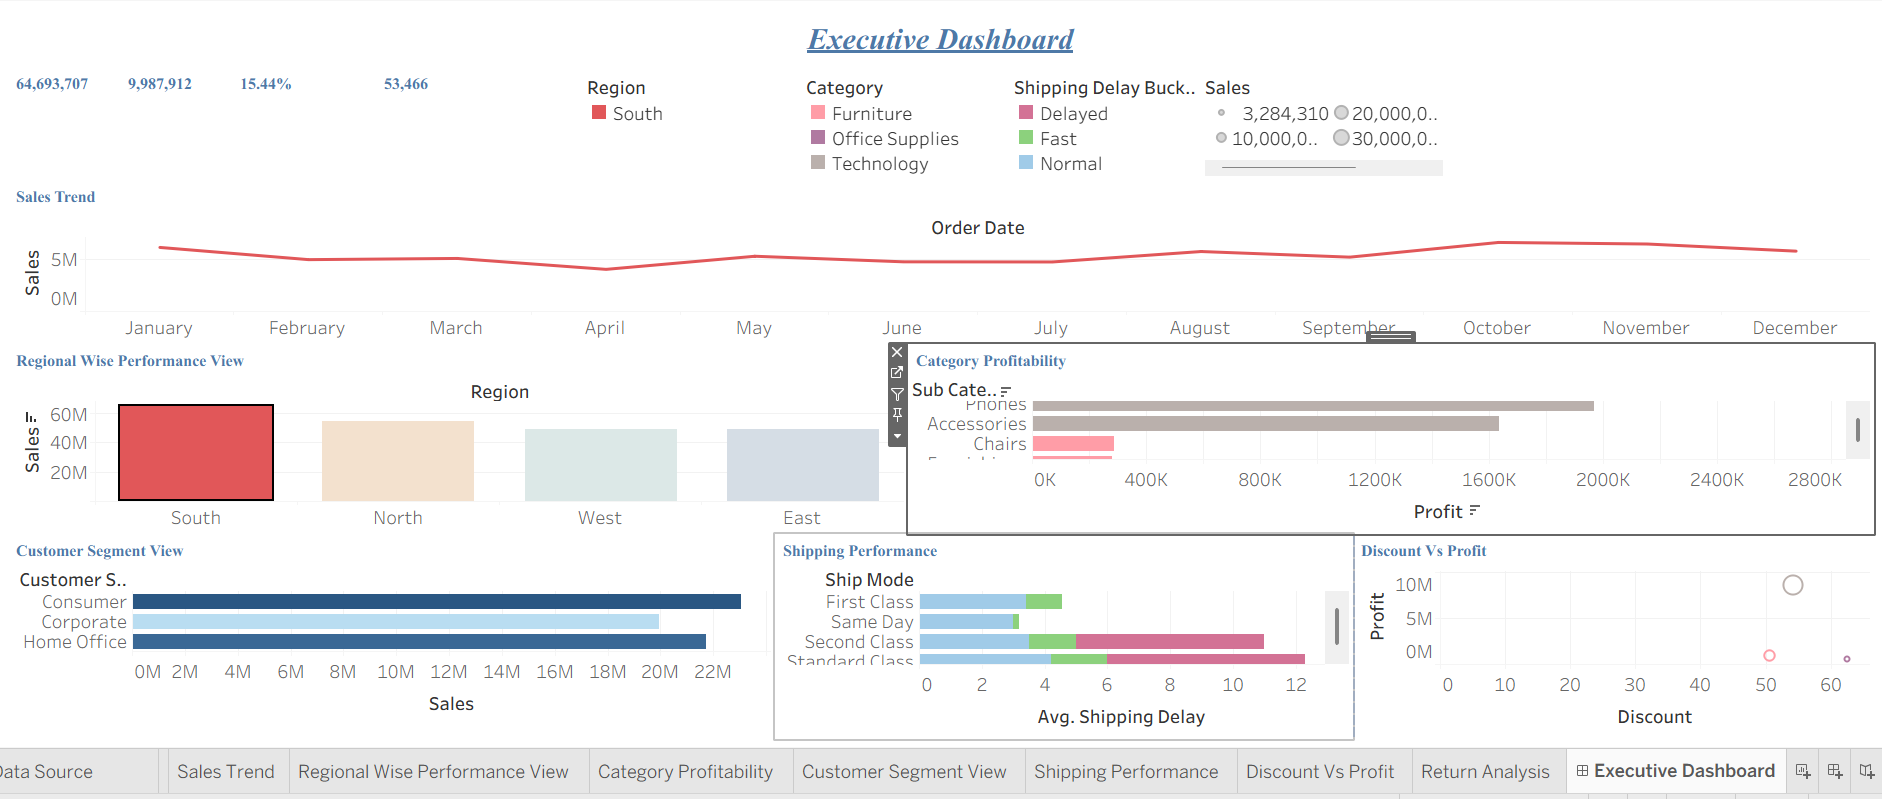

This screenshot's page, from the dashboard's own definition file:
{"tool":"tableau","page":{"name":"Executive Dashboard","canvas":[1000,1000],"units":"permille","ordinal":0},"visuals":[{"type":"title","box":[4.2,10.7,991.5,81.8]},{"type":"worksheet","title":"Total Sales","mark":"Automatic","box":[4.2,92.5,57.4,147.1]},{"type":"worksheet","title":"Total Profit","mark":"Automatic","box":[61.6,92.5,61.6,147.1]},{"type":"worksheet","title":"Profit Margin","mark":"Automatic","box":[123.3,92.5,76.5,147.1]},{"type":"worksheet","title":"Avg Order Value","mark":"Automatic","box":[199.8,92.5,110,147.1]},{"type":"legend","title":"Sales Trend","param":"[federated.016ygvn1skgenk1b298vn037kizk].[none:region:nk]","box":[309.8,92.5,116.4,147.1]},{"type":"legend","title":"Category Profitability","param":"[federated.016ygvn1skgenk1b298vn037kizk].[none:category:nk]","box":[426.1,92.5,110.5,147.1]},{"type":"legend","title":"Shipping Performance","param":"[federated.016ygvn1skgenk1b298vn037kizk].[none:Calculation_1159452146741253:nk]","box":[536.6,92.5,101.5,147.1]},{"type":"legend","title":"Discount Vs Profit","param":"[federated.016ygvn1skgenk1b298vn037kizk].[sum:sales:qk]","box":[638.1,92.5,131.8,147.1]},{"type":"worksheet","title":"Sales Trend","mark":"Automatic","rows":["sales"],"cols":["order_date"],"box":[4.2,239.6,991.5,219.8]},{"type":"worksheet","title":"Regional Wise Performance ","mark":"Automatic","rows":["sales"],"cols":["region"],"box":[4.2,459.4,478.1,255.1]},{"type":"worksheet","title":"Category Profitability","mark":"Automatic","rows":["sub_category"],"cols":["profit"],"box":[482.4,459.4,513.4,255.1]},{"type":"worksheet","title":"Customer Segment View","mark":"Automatic","rows":["customer_segment"],"cols":["sales"],"box":[4.2,714.5,407.6,274.8]},{"type":"worksheet","title":"Shipping Performance","mark":"Automatic","rows":["ship_mode"],"cols":["Calculation_1159452146294788"],"box":[411.8,714.5,307.1,274.8]},{"type":"worksheet","title":"Discount Vs Profit","mark":"Automatic","rows":["profit"],"cols":["discount"],"box":[718.9,714.5,276.8,274.8]}]}

Visuals, with their boxes on the dashboard's canvas, which has no fixed pixel size, in thousandths of its width and height (x1, y1, x2, y2). These are canvas units, not pixel positions in the 1882x799 screenshot, which may show the page scaled, cropped or inside an application window:
title: rect(4, 11, 996, 92)
"Total Sales" worksheet: rect(4, 92, 62, 240)
"Total Profit" worksheet: rect(62, 92, 123, 240)
"Profit Margin" worksheet: rect(123, 92, 200, 240)
"Avg Order Value" worksheet: rect(200, 92, 310, 240)
"Sales Trend" legend: rect(310, 92, 426, 240)
"Category Profitability" legend: rect(426, 92, 537, 240)
"Shipping Performance" legend: rect(537, 92, 638, 240)
"Discount Vs Profit" legend: rect(638, 92, 770, 240)
"Sales Trend" worksheet: rect(4, 240, 996, 459)
"Regional Wise Performance " worksheet: rect(4, 459, 482, 714)
"Category Profitability" worksheet: rect(482, 459, 996, 714)
"Customer Segment View" worksheet: rect(4, 714, 412, 989)
"Shipping Performance" worksheet: rect(412, 714, 719, 989)
"Discount Vs Profit" worksheet: rect(719, 714, 996, 989)
